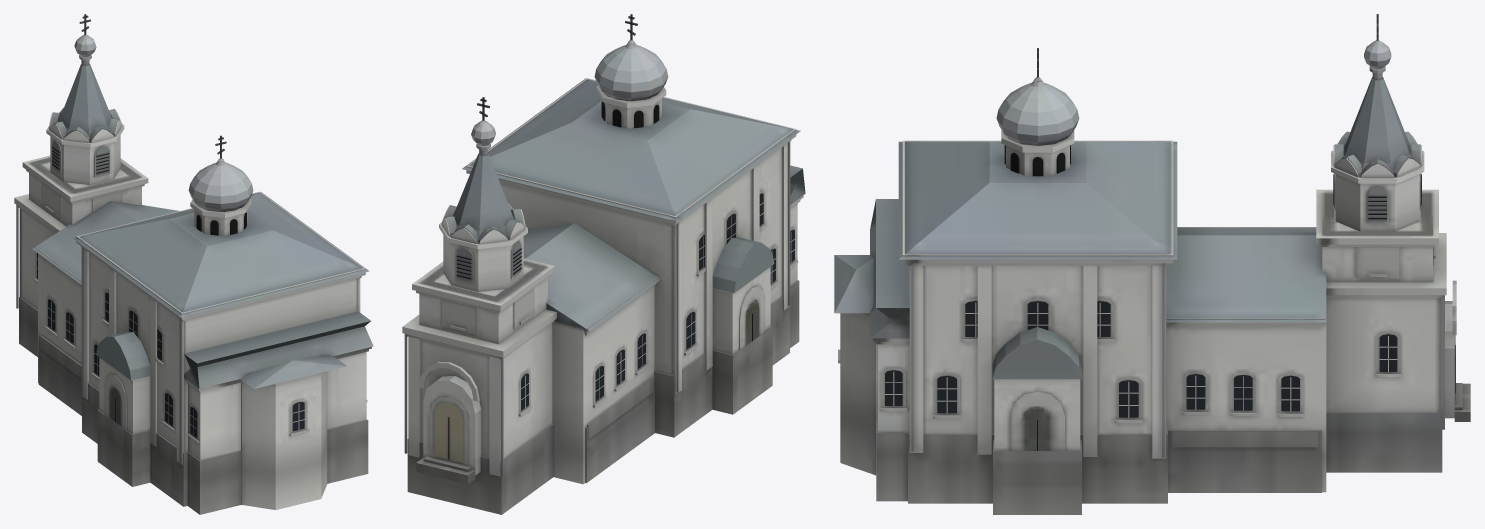
File: cerkve.glb
The picture shows the model from 3 angles, left to right: view 1: azimuth 30°, elevation 25°; view 2: azimuth 150°, elevation 25°; view 3: azimuth 270°, elevation 25°; orthographic projection. The views are drawn at different scales.
Parts seen in each view (by area): view 1: building; view 2: building; view 3: building.
Part boxes in pixels (<box>): building: <box>14,14,373,514</box>; building: <box>402,14,805,514</box>; building: <box>834,14,1470,514</box>.
Size of the model in its own units: 16.11 by 24.15 by 32.2.
2 materials, 2 textured.
